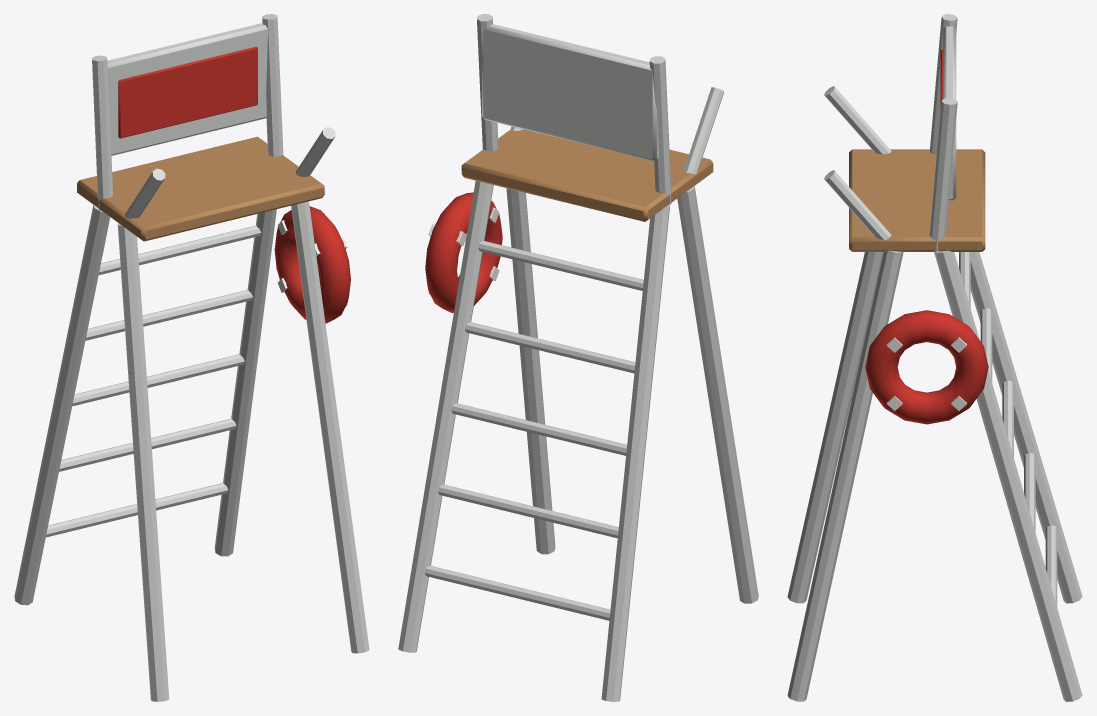
Rendered from lifeguard_chair.glb.
The picture shows the model from 3 angles, left to right: view 1: azimuth 30°, elevation 25°; view 2: azimuth 150°, elevation 25°; view 3: azimuth 270°, elevation 25°; orthographic projection.
Parts seen in each view (by area): view 1: LifeguardChair; view 2: LifeguardChair; view 3: LifeguardChair.
Boxes of the visible parts, x1,y1,x2,y2 form: LifeguardChair: (14, 14, 369, 701); LifeguardChair: (398, 14, 758, 701); LifeguardChair: (787, 14, 1082, 701).
Bounding box in the file's own units: 0.865 × 2.01 × 0.9084.
